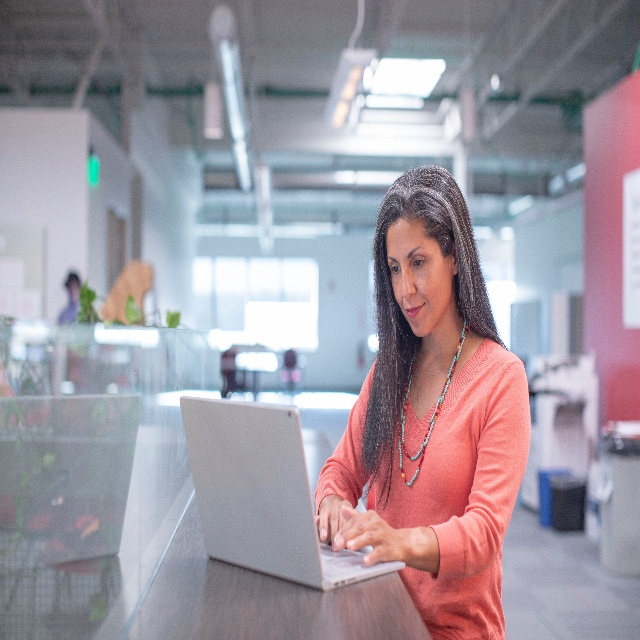Sin_guantes: (334, 500, 407, 564), (315, 498, 353, 552)
